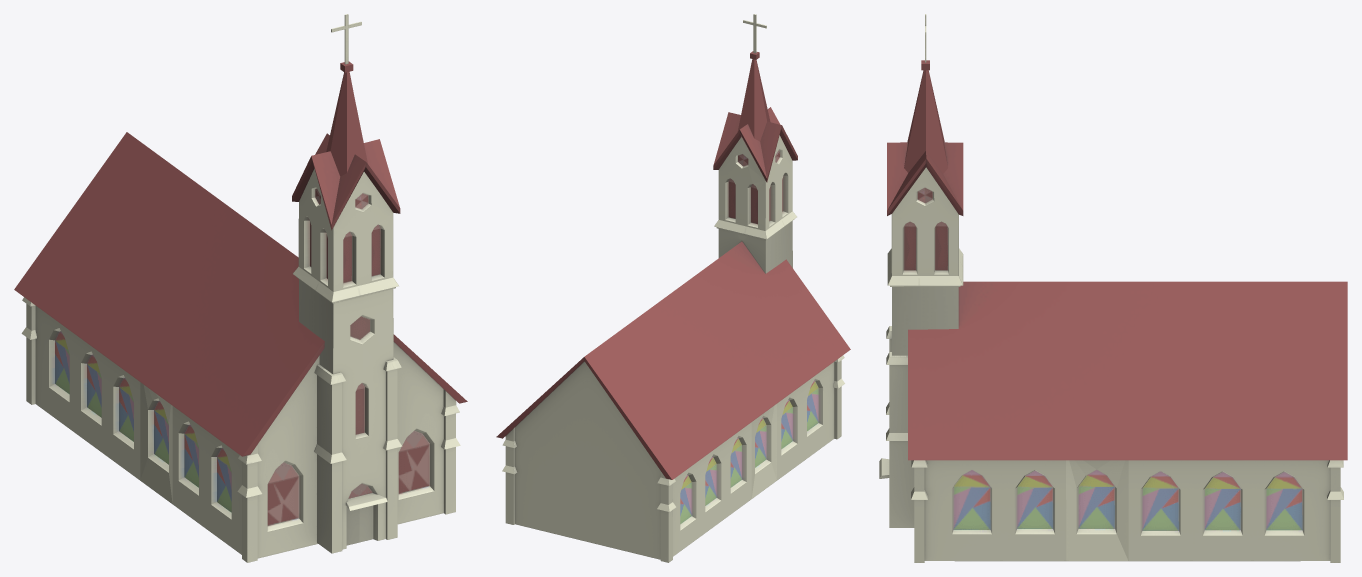
Rendered from builtEnv-church-02.glb.
3 renders of one model, left to right at view 1: azimuth 30°, elevation 25°; view 2: azimuth 150°, elevation 25°; view 3: azimuth 270°, elevation 25°, orthographic. The views are drawn at different scales.
Visible parts, largest first — view 1: node-0; view 2: node-0; view 3: node-0.
Boxes of the visible parts, x1,y1,x2,y2 form: node-0: (14, 14, 467, 562); node-0: (496, 14, 850, 562); node-0: (879, 14, 1347, 562).
Size of the model in its own units: 13.1 by 28.76 by 24.45.
Materials: 1 (1 with a texture image).
